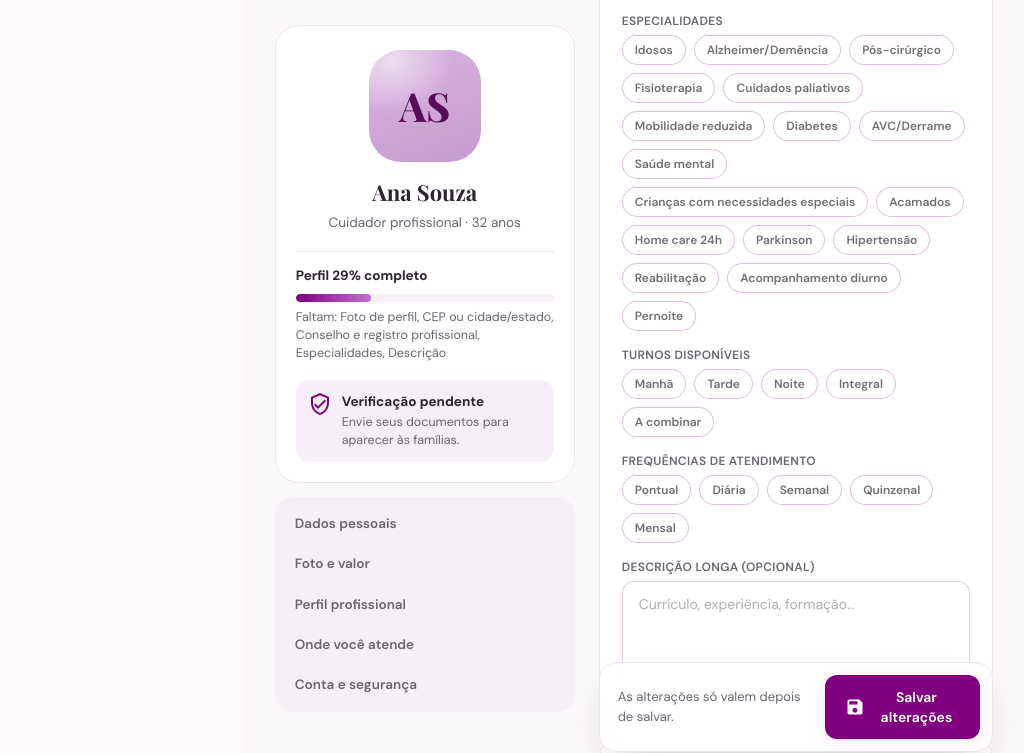
Test: Página de Perfil › disponibilidade: envia turnos e frequências usados pelo match
(page scrolled)
Click the button "Manhã". click: {"x": 654, "y": 384}
box: top-left (622, 369), bottom-right (686, 399)
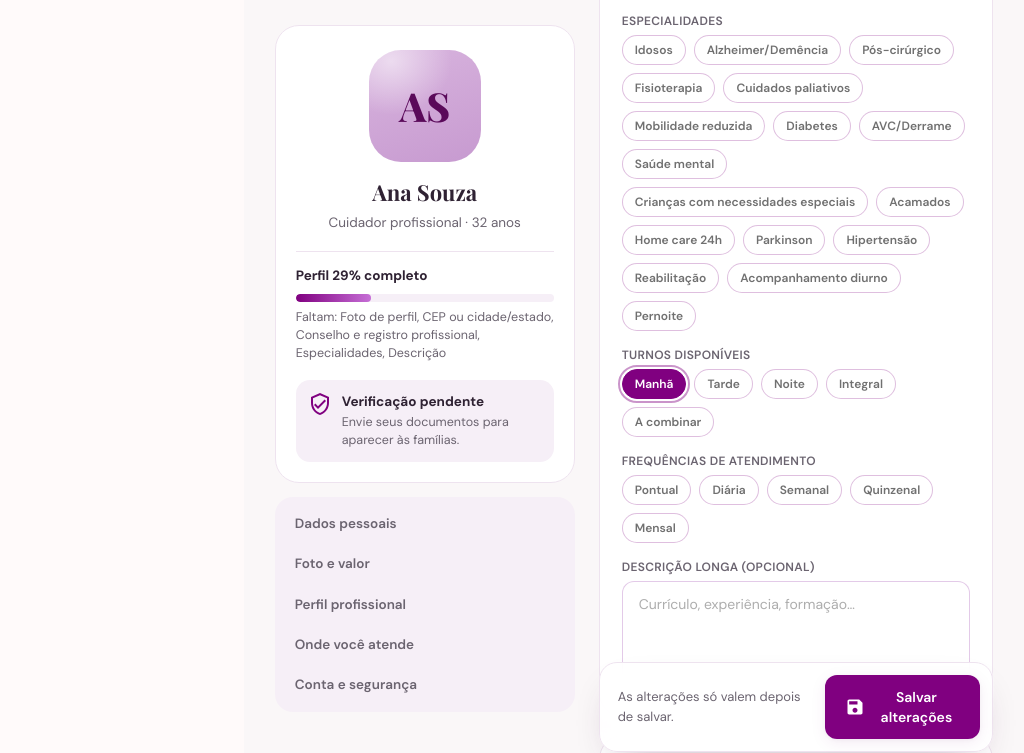
Click the button "Semanal". click: {"x": 804, "y": 490}
box: top-left (767, 475), bottom-right (842, 505)
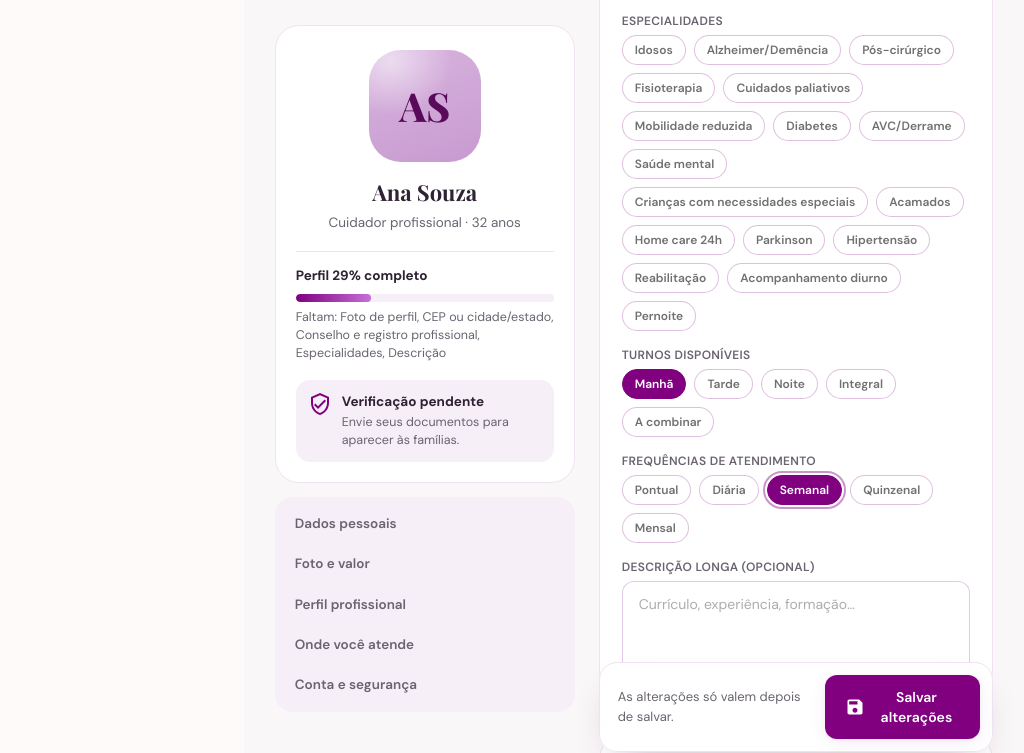
Click the button "Salvar alterações". click: {"x": 902, "y": 707}
box: top-left (825, 675), bottom-right (980, 739)
(page scrolled)
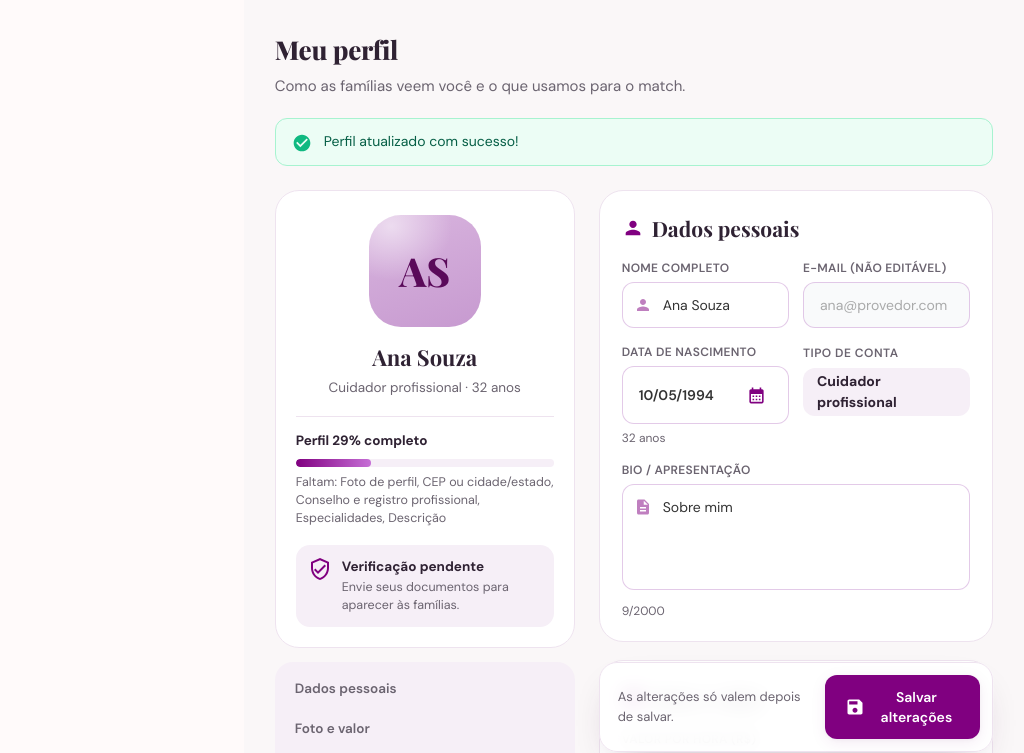
Expected: the text "Perfil atualizado com sucesso!" is shown, top-left (324, 130), bottom-right (518, 150)
